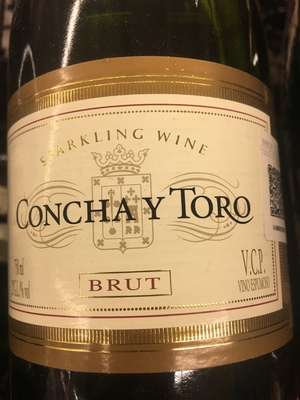brut: (2, 19, 284, 400)
